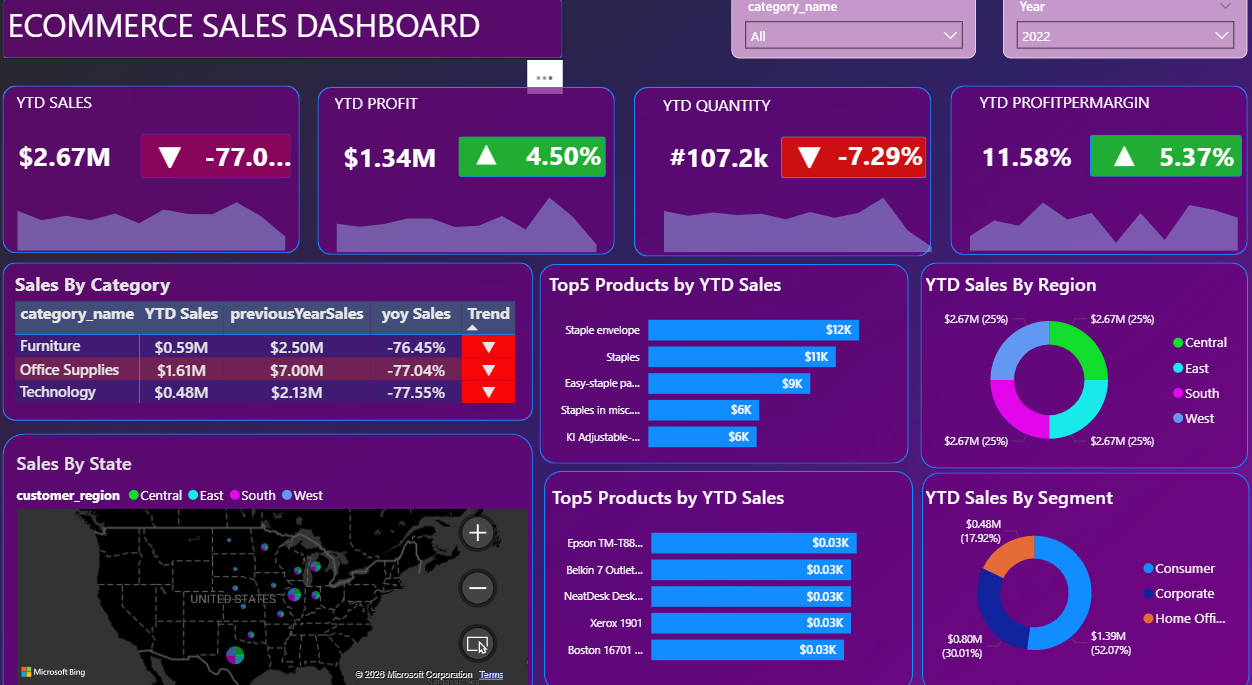

Layout of this report page (visuals, bound fields, positions):
{"tool":"powerbi","page":{"name":"Ecomerce_sales_overview","canvas":[1280,720],"ordinal":0},"visuals":[{"type":"shape","box":[13.1,8.2,565.6,60.7],"z":0},{"type":"textbox","box":[13.6,6.1,566.3,62.1],"z":1000},{"type":"shape","box":[12.9,95.6,300,169.4],"z":1000,"group":"g1"},{"type":"shape","box":[153.2,143.5,151.6,45.2],"z":2000},{"type":"shape","box":[651.6,96.8,300,171],"z":3000},{"type":"card","fields":{"Values":["ecommerce_data.YTD Sales"]},"box":[12.9,139,125,55.3],"z":3000,"group":"g1"},{"type":"card","fields":{"Values":["ecommerce_data.Hash Quantity"]},"box":[667,141.3,141.1,54.9],"z":4000},{"type":"areaChart","fields":{"Category":["DateTable.MonthName"],"Y":["Sum(ecommerce_data.sales_per_order)"]},"box":[12.9,190.3,300,76.3],"z":4000,"group":"g1"},{"type":"areaChart","fields":{"Category":["DateTable.MonthName"],"Y":["Sum(ecommerce_data.order_quantity)"]},"box":[666.1,192.5,300,76.3],"z":5000},{"type":"card","fields":{"Values":["ecommerce_data.yoy Sales"]},"box":[208.1,140.8,104.8,51.6],"z":6000,"group":"g1"},{"type":"shape","box":[800,146.8,146.8,41.9],"z":6000},{"type":"card","fields":{"Values":["ecommerce_data.YOY Quanity"]},"box":[850,141.9,100,46.8],"z":7000},{"type":"card","fields":{"Values":["ecommerce_data.Sales Icon"]},"box":[151.6,152.1,58.1,32.3],"z":7000,"group":"g1"},{"type":"textbox","box":[22.1,95.6,94.7,31.6],"z":8000,"group":"g1"},{"type":"card","fields":{"Values":["ecommerce_data.Quantity Icon"]},"box":[800,151.6,56.5,32.3],"z":8000},{"type":"shape","box":[332.3,96.2,300,169.4],"z":9000,"group":"g2"},{"type":"textbox","box":[675.9,98,141.1,33.3],"z":9000},{"type":"shape","box":[971,95.2,300,171],"z":10000},{"type":"card","fields":{"Values":["ecommerce_data.Ytd Profit"]},"box":[337.5,139.9,137,54.8],"z":10000,"group":"g2"},{"type":"card","fields":{"Values":["ecommerce_data.YTD profitMargin"]},"box":[976.3,139.4,141.1,54.9],"z":11000},{"type":"areaChart","fields":{"Category":["DateTable.MonthName"],"Y":["Sum(ecommerce_data.profit_per_order)"]},"box":[336.7,191,291.4,76.2],"z":11000,"group":"g2"},{"type":"textbox","box":[345.1,96.8,108.5,33.3],"z":12000,"group":"g2"},{"type":"areaChart","fields":{"Category":["DateTable.MonthName"],"Y":["ecommerce_data.ProfitpPerMargin"]},"box":[975.4,190.6,300,76.3],"z":12000},{"type":"shape","box":[1111.3,145.2,153.2,41.9],"z":13000},{"type":"shape","box":[474.9,146.1,148.5,40.8],"z":13000,"group":"g2"},{"type":"card","fields":{"Values":["ecommerce_data.YOY Profit"]},"box":[530.1,141.4,100.5,46.8],"z":14000,"group":"g2"},{"type":"card","fields":{"Values":["ecommerce_data.YOY profitpermargin"]},"box":[1167.7,143.5,103.2,46.8],"z":14000},{"type":"card","fields":{"Values":["ecommerce_data.Profit Icon"]},"box":[475,149.4,55.1,30.7],"z":15000,"group":"g2"},{"type":"card","fields":{"Values":["ecommerce_data.ProfitpermarginIcon"]},"box":[1117.7,151.6,56.5,30.6],"z":15000},{"type":"textbox","box":[995.2,95.2,193.5,32.3],"z":16000},{"type":"group","id":"g1","title":"Group 1","box":[12.9,95.6,300,171.1],"z":17000},{"type":"group","id":"g2","title":"Group 2","box":[332.3,96.2,300,171],"z":18000},{"type":"shape","box":[12.9,274.2,535.5,159.7],"z":19000},{"type":"pivotTable","title":"Sales By Category","fields":{"Rows":["ecommerce_data.category_name"],"Values":["ecommerce_data.YTD Sales","ecommerce_data.previousYearSales","ecommerce_data.yoy Sales","ecommerce_data.Trend"]},"box":[21,283.9,527.4,150],"z":20000},{"type":"shape","box":[12.9,446.8,535.5,272.6],"z":21000},{"type":"map","title":"Sales By State","fields":{"Series":["ecommerce_data.customer_region"],"Size":["ecommerce_data.YTD Sales"],"Y":["us_state_long_lat_codes.latitude"],"X":["us_state_long_lat_codes.longitude"]},"box":[22.6,462.9,525.8,243.5],"z":22000},{"type":"shape","box":[556.5,275.8,372.6,201.6],"z":23000},{"type":"shape","box":[559.7,483.9,372.6,222.6],"z":24000},{"type":"barChart","title":"Top5 Products by YTD Sales","fields":{"Category":["ecommerce_data.product_name"],"Y":["ecommerce_data.YTD Sales"]},"box":[559.7,283.9,369.4,193.5],"z":25000},{"type":"shape","box":[940.3,274.2,330.6,208.1],"z":26000,"group":"g3"},{"type":"barChart","title":"Top5 Products by YTD Sales","fields":{"Category":["ecommerce_data.product_name"],"Y":["ecommerce_data.YTD Sales"]},"box":[562.9,498.4,369.4,193.5],"z":26000},{"type":"shape","box":[941.9,485.5,330.6,222.6],"z":27000},{"type":"donutChart","title":"YTD Sales By Region","fields":{"Y":["ecommerce_data.YTD Sales"],"Category":["ecommerce_data.customer_region"]},"box":[940.3,283.9,324.2,193.5],"z":27500,"group":"g3"},{"type":"donutChart","title":"YTD Sales By Segment","fields":{"Y":["ecommerce_data.YTD Sales"],"Category":["ecommerce_data.customer_segment"]},"box":[940.3,498.4,324.2,193.5],"z":28000},{"type":"group","id":"g3","title":"Group 3","box":[940.3,274.2,330.6,208.1],"z":29000},{"type":"slicer","fields":{"Values":["ecommerce_data.category_name"]},"box":[749.5,0,246.8,68.1],"z":30000},{"type":"slicer","fields":{"Values":["DateTable.Year"]},"box":[1023.6,0,246.8,68.1],"z":31000}]}

Visuals, with their boxes in screenshot pixels (x1, y1, x2, y2), scaled from the page's 1280x720 canvas onto the 1252x685 screenshot:
shape: (13, 8, 566, 66)
textbox: (13, 6, 567, 65)
shape: (13, 91, 306, 252)
shape: (150, 137, 298, 180)
shape: (637, 92, 931, 255)
card - ecommerce_data.YTD Sales: (13, 132, 135, 185)
card - ecommerce_data.Hash Quantity: (652, 134, 790, 187)
areaChart - DateTable.MonthName x Sum(ecommerce_data.sales_per_order): (13, 181, 306, 254)
areaChart - DateTable.MonthName x Sum(ecommerce_data.order_quantity): (652, 183, 945, 256)
card - ecommerce_data.yoy Sales: (204, 134, 306, 183)
shape: (782, 140, 926, 180)
card - ecommerce_data.YOY Quanity: (831, 135, 929, 180)
card - ecommerce_data.Sales Icon: (148, 145, 205, 175)
textbox: (22, 91, 114, 121)
card - ecommerce_data.Quantity Icon: (782, 144, 838, 175)
shape: (325, 92, 618, 253)
textbox: (661, 93, 799, 125)
shape: (950, 91, 1243, 253)
card - ecommerce_data.Ytd Profit: (330, 133, 464, 185)
card - ecommerce_data.YTD profitMargin: (955, 133, 1093, 185)
areaChart - DateTable.MonthName x Sum(ecommerce_data.profit_per_order): (329, 182, 614, 254)
textbox: (338, 92, 444, 124)
areaChart - DateTable.MonthName x ecommerce_data.ProfitpPerMargin: (954, 181, 1248, 254)
shape: (1087, 138, 1237, 178)
shape: (465, 139, 610, 178)
card - ecommerce_data.YOY Profit: (519, 135, 617, 179)
card - ecommerce_data.YOY profitpermargin: (1142, 137, 1243, 181)
card - ecommerce_data.Profit Icon: (465, 142, 519, 171)
card - ecommerce_data.ProfitpermarginIcon: (1093, 144, 1149, 173)
textbox: (973, 91, 1163, 121)
"Group 1" group: (13, 91, 306, 254)
"Group 2" group: (325, 92, 618, 254)
shape: (13, 261, 536, 413)
"Sales By Category" pivotTable: (21, 270, 536, 413)
shape: (13, 425, 536, 684)
"Sales By State" map: (22, 440, 536, 672)
shape: (544, 262, 909, 454)
shape: (547, 460, 912, 672)
"Top5 Products by YTD Sales" barChart: (547, 270, 909, 454)
shape: (920, 261, 1243, 459)
"Top5 Products by YTD Sales" barChart: (551, 474, 912, 658)
shape: (921, 462, 1245, 674)
"YTD Sales By Region" donutChart: (920, 270, 1237, 454)
"YTD Sales By Segment" donutChart: (920, 474, 1237, 658)
"Group 3" group: (920, 261, 1243, 459)
slicer - ecommerce_data.category_name: (733, 0, 975, 65)
slicer - DateTable.Year: (1001, 0, 1243, 65)
